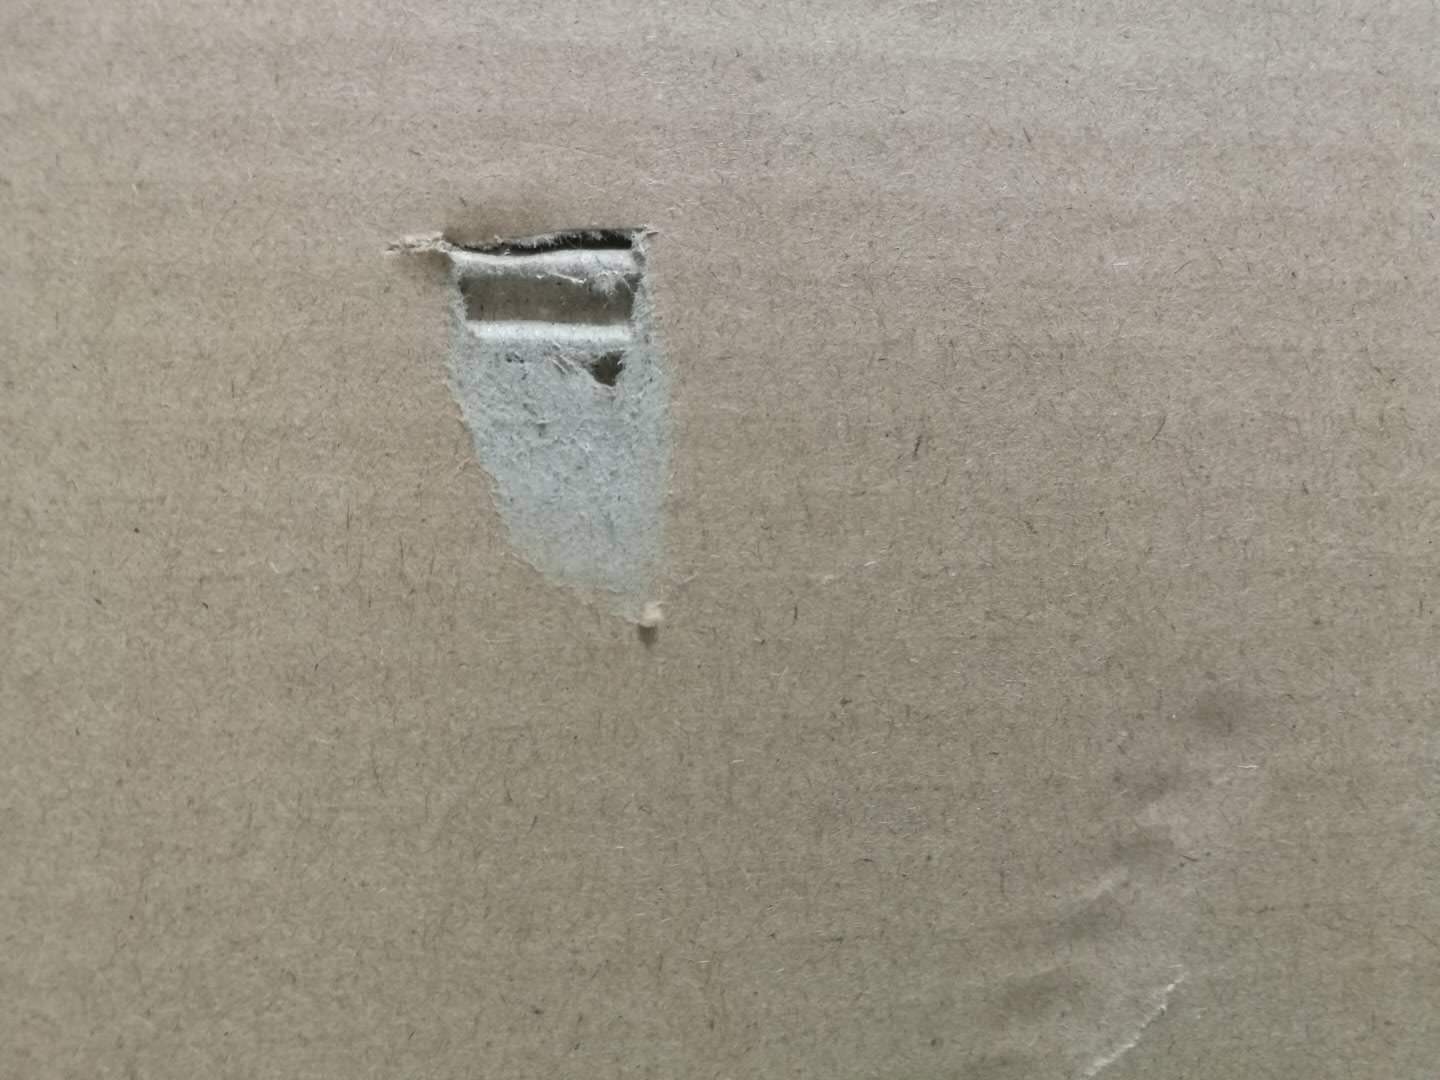defect: (361, 187, 725, 674), (942, 664, 1296, 1080)
